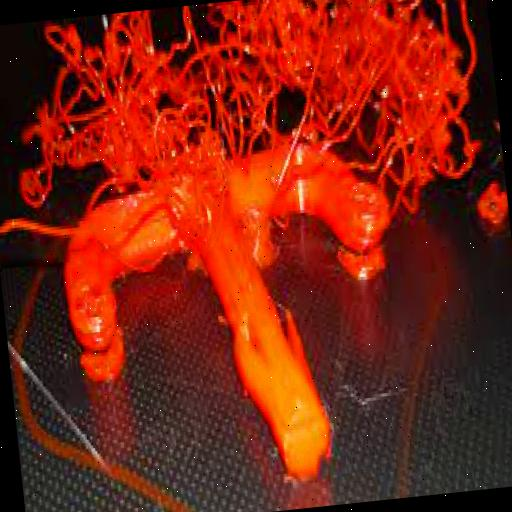spaghetti: (0, 0, 492, 249)
